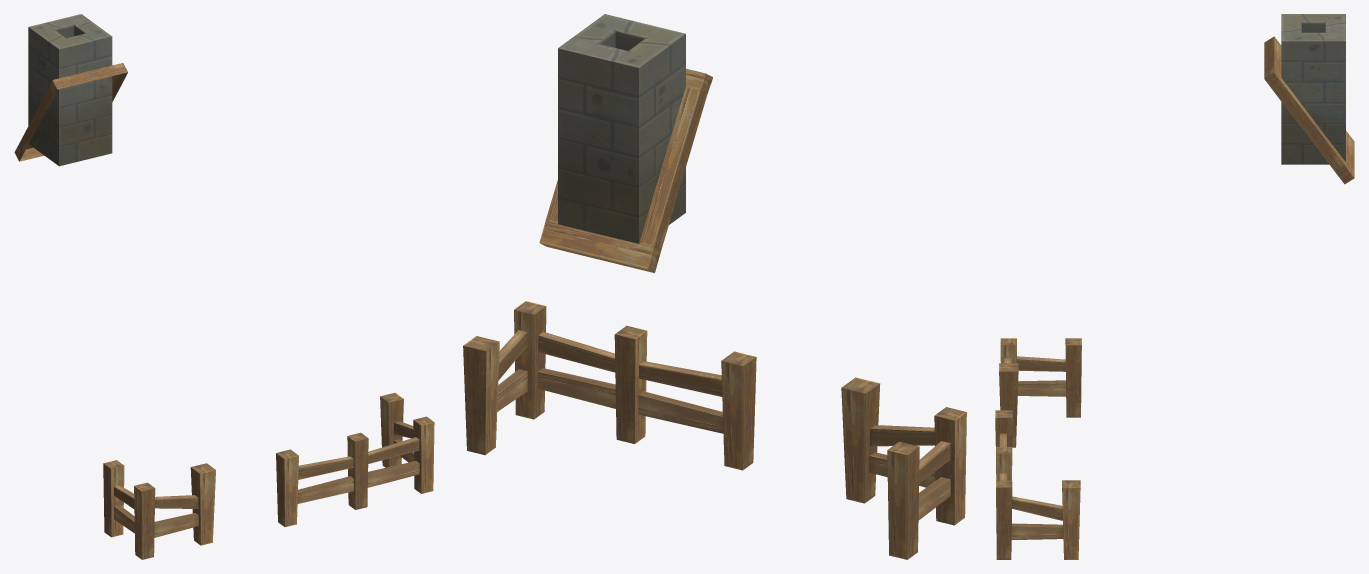
Rendered from house_upgrade_b.FBX.
3 renders of one model, left to right at view 1: azimuth 30°, elevation 25°; view 2: azimuth 150°, elevation 25°; view 3: azimuth 270°, elevation 25°, orthographic. The views are drawn at different scales.
Parts seen in each view (by area): view 1: house_upgrade_b; view 2: house_upgrade_b; view 3: house_upgrade_b.
Boxes of the visible parts, x1,y1,x2,y2 form: house_upgrade_b: (14,14,434,559); house_upgrade_b: (463,14,966,559); house_upgrade_b: (995,14,1354,559).
Bounding box in the file's own units: 857 × 1128 × 869.
Materials: 2 (2 with a texture image).
